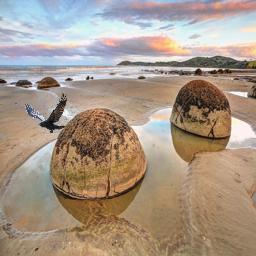Crow: (25, 91, 67, 133)
